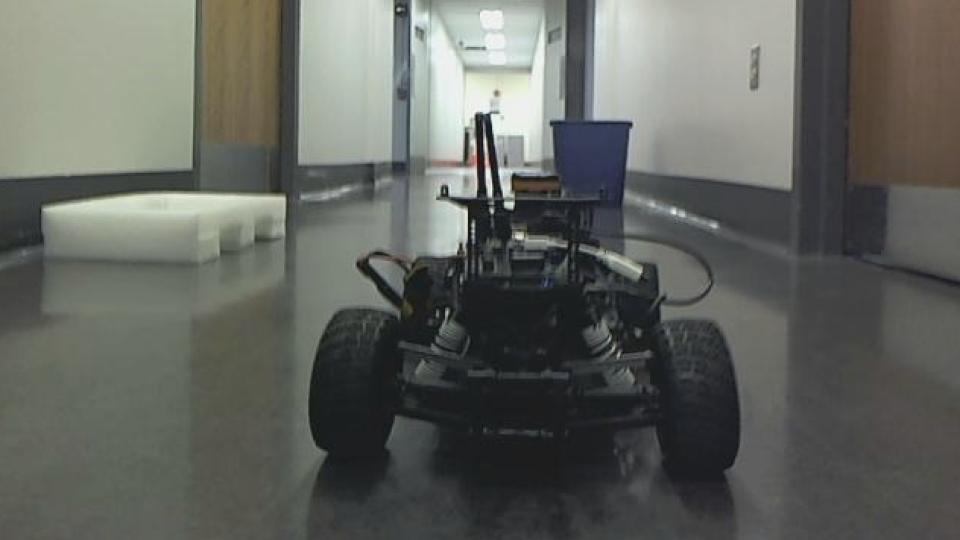car: (304, 111, 744, 484)
